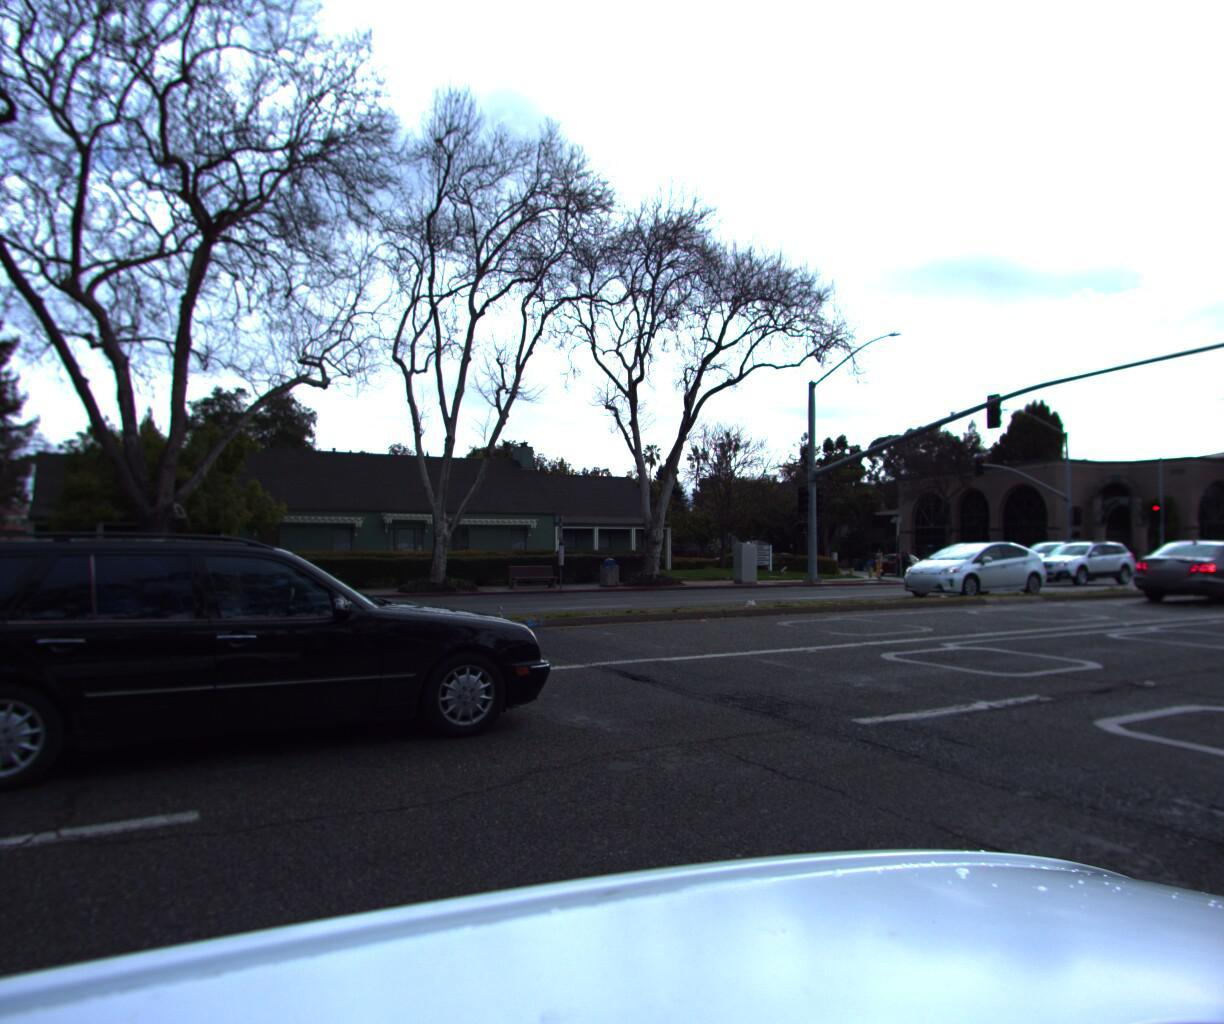bicycle: (889, 550, 920, 584), (878, 552, 909, 584)
car: (0, 521, 561, 823), (0, 536, 173, 656), (886, 545, 1050, 605), (1117, 540, 1224, 615), (1016, 541, 1140, 593), (991, 542, 1098, 587), (866, 559, 933, 584)
